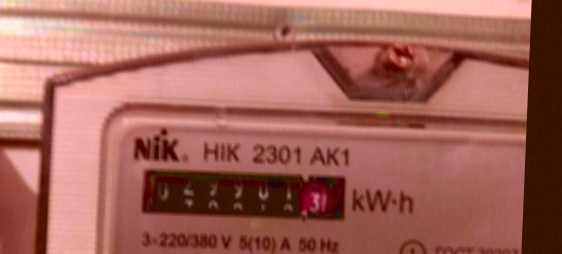0: (255, 175, 270, 200), (154, 178, 170, 199)
1: (280, 177, 294, 200)
2: (179, 176, 196, 195)
3: (306, 189, 320, 211)
9: (230, 176, 245, 198), (205, 175, 218, 197)
screen: (127, 157, 356, 230)
